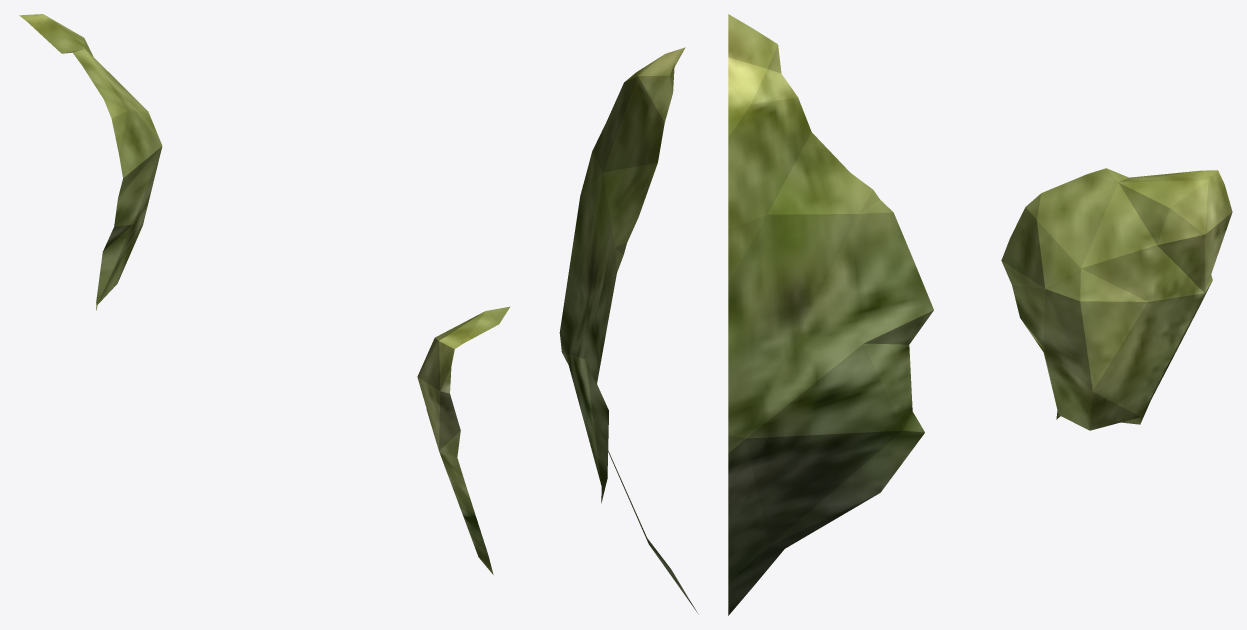
3 renders of one model, left to right at view 1: azimuth 30°, elevation 25°; view 2: azimuth 150°, elevation 25°; view 3: azimuth 270°, elevation 25°, orthographic. The views are drawn at different scales.
Bounding box in the file's own units: 0.2478 × 1.02 × 0.7732.
Materials: 1 (1 with a texture image).
